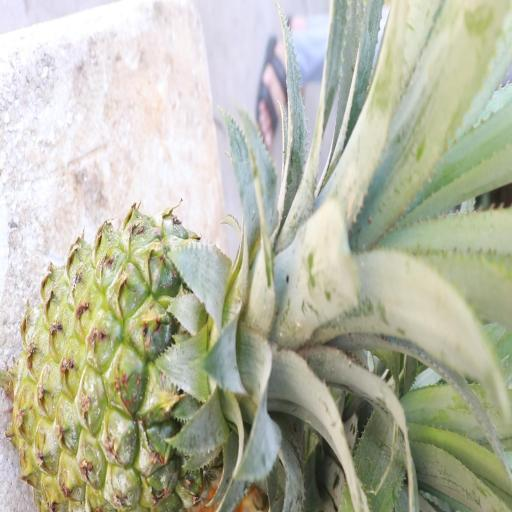------------------------------: (13, 222, 288, 512)
